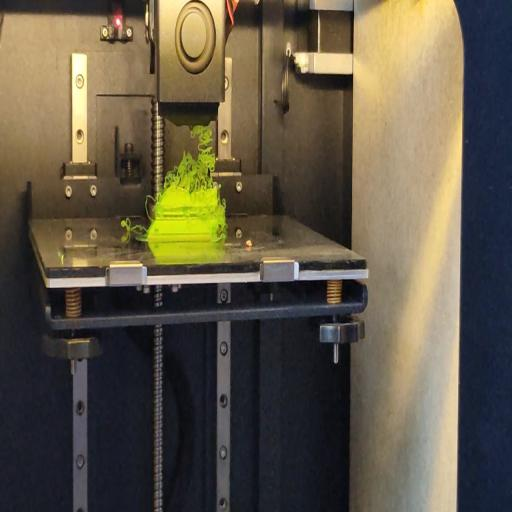spaghetti: (163, 124, 219, 190), (118, 217, 147, 234), (144, 192, 158, 218), (215, 230, 227, 243)
